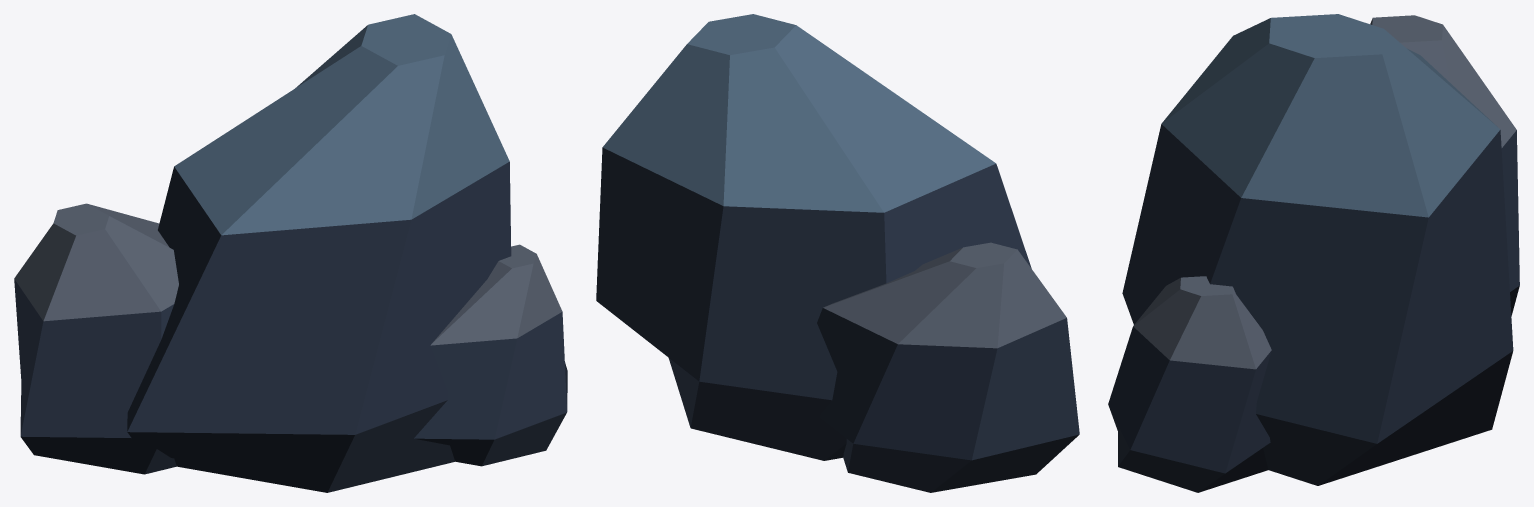
File: basalt-remnant.glb
3 renders of one model, left to right at view 1: azimuth 30°, elevation 25°; view 2: azimuth 150°, elevation 25°; view 3: azimuth 270°, elevation 25°, orthographic. The views are drawn at different scales.
Parts seen in each view (by area): view 1: basalt-remnant; view 2: basalt-remnant; view 3: basalt-remnant.
Part boxes in pixels (box(x1,y1,x2,y2)): basalt-remnant: box(14, 14, 567, 492); basalt-remnant: box(596, 14, 1079, 492); basalt-remnant: box(1108, 14, 1519, 492).
Size of the model in its own units: 2.27 by 1.54 by 1.42.
